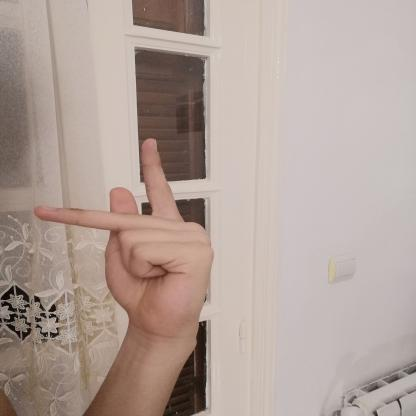DHAA: (21, 128, 228, 346)
